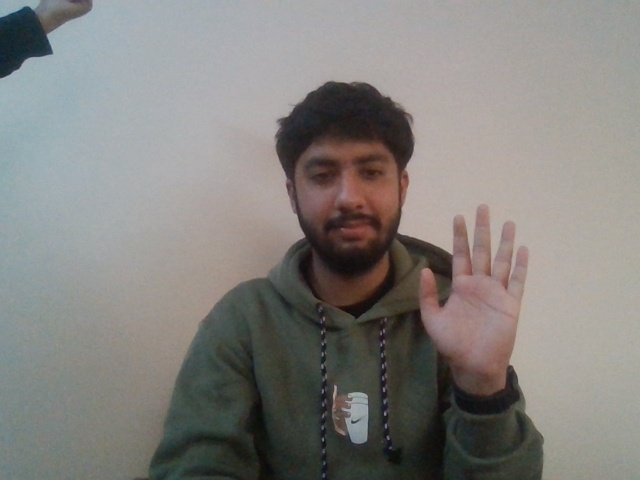Hello: (408, 205, 542, 376)
